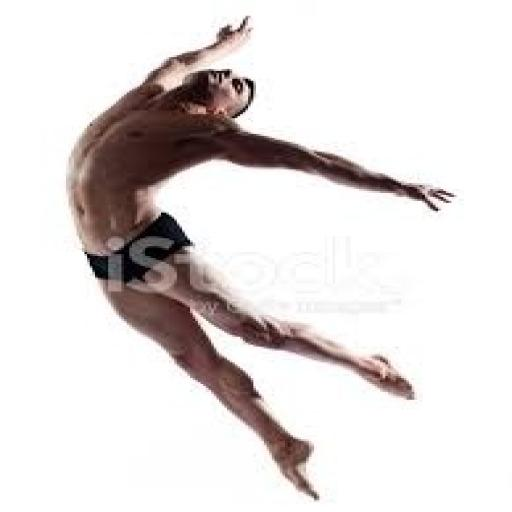dancing: (61, 14, 459, 504)
